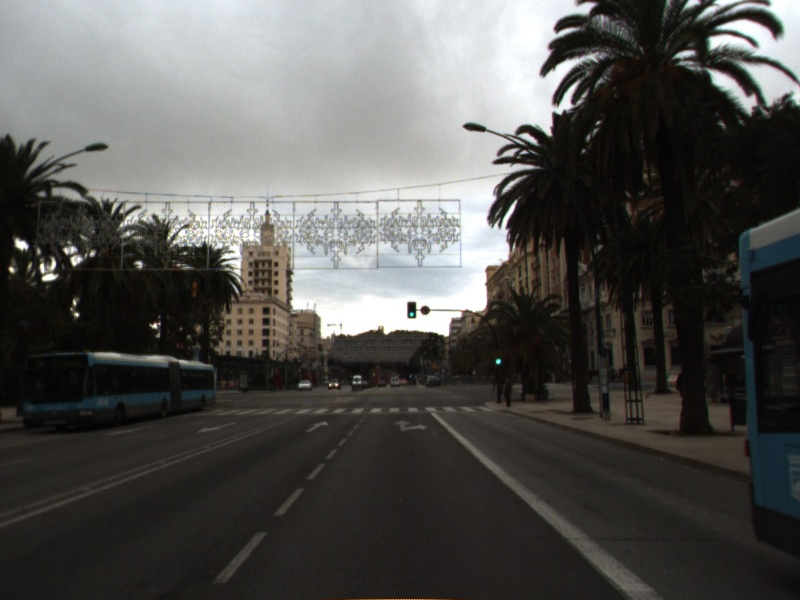STRAIGHT: (303, 419, 332, 435)
STRAIGHT_RIGHT: (391, 418, 430, 434)
